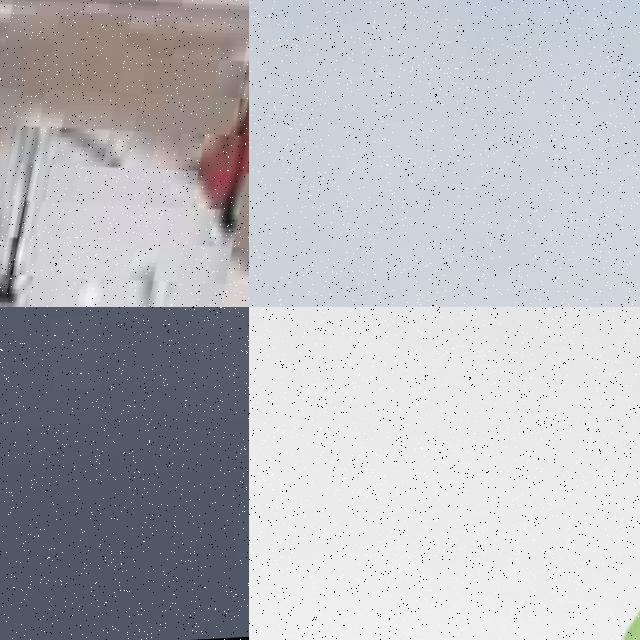drone: (249, 307, 640, 640), (0, 0, 249, 307)
